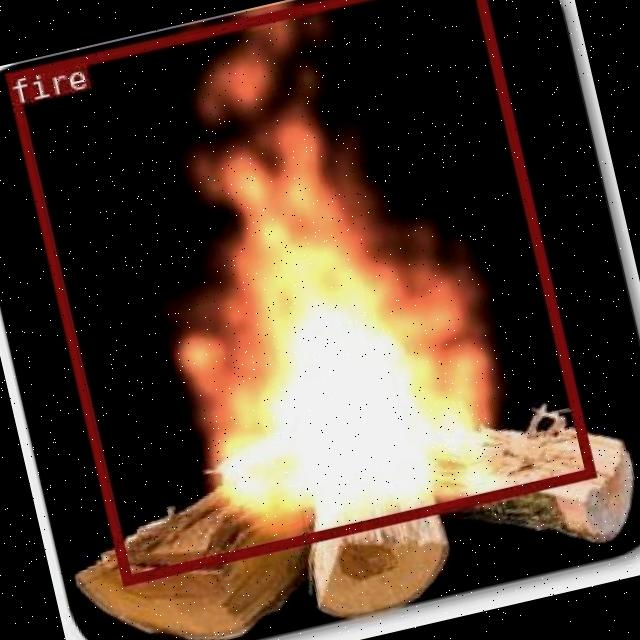fire: (3, 0, 594, 584)
